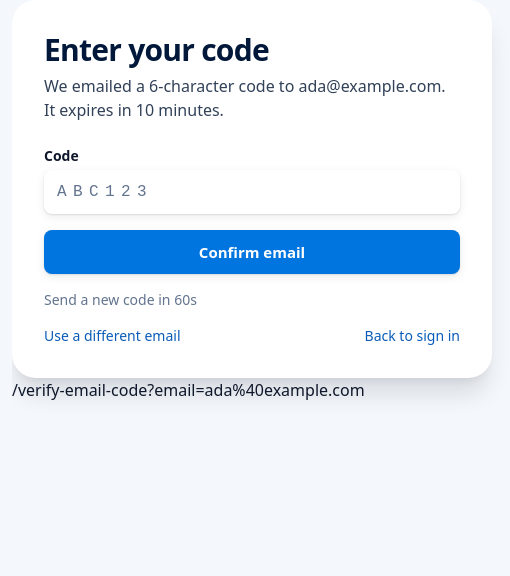
Test case: Sign up with a phone number › confirms the email with the mailed code and goes to sign in
Expected: the text "ada@example.com" is shown, [44,75,446,121]
Type "k7m2xq" into the field labelled "Code" at [252, 192], box [44,170,460,214]
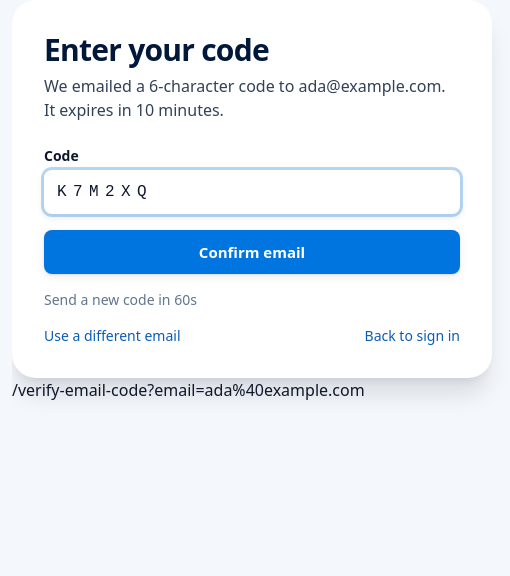
Click the button "Confirm email" at [252, 252], box [44,230,460,274]
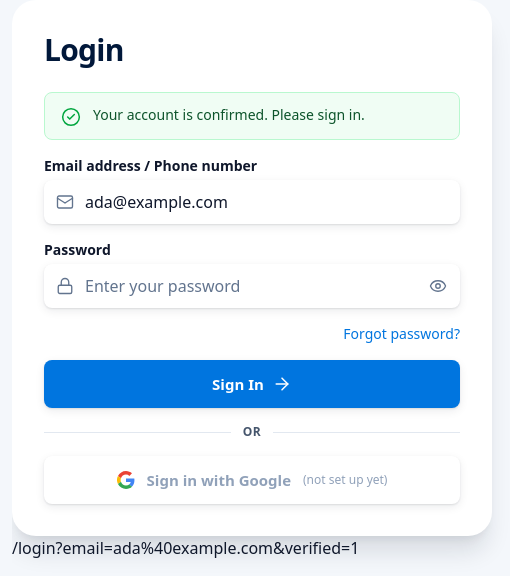
Result: the text with test id "where" shows "/login" at [12,537,359,559]
Result: the text with test id "where" shows "verified=1" at [12,537,359,559]
